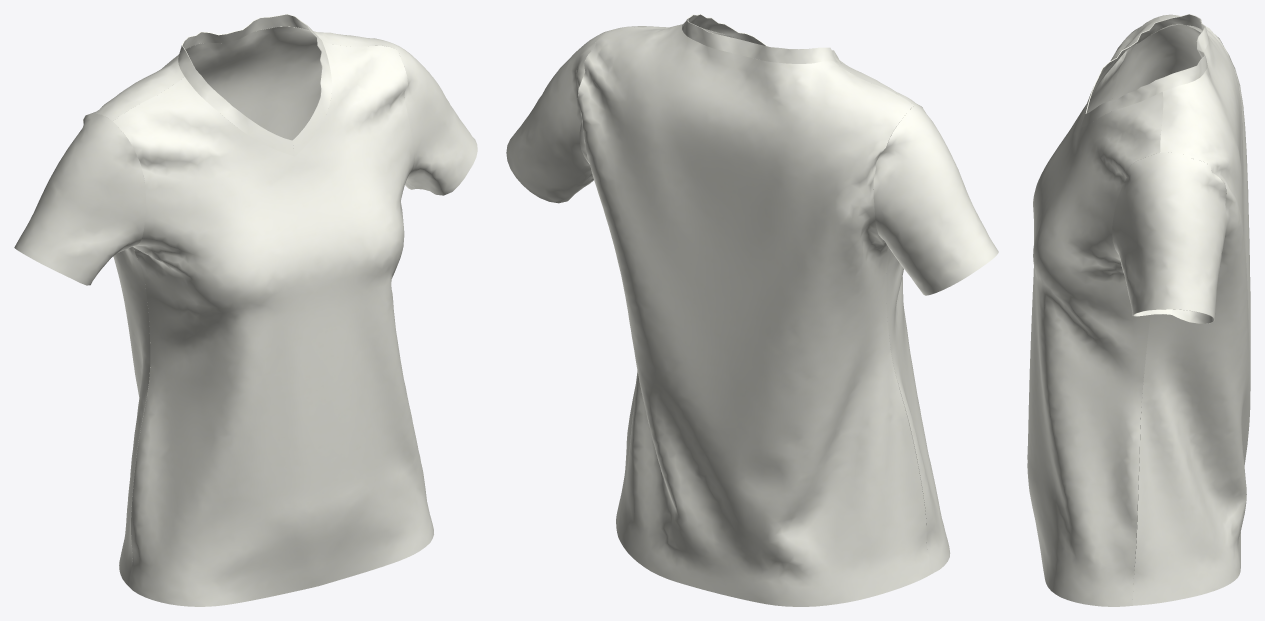
3 renders of one model, left to right at view 1: azimuth 30°, elevation 25°; view 2: azimuth 150°, elevation 25°; view 3: azimuth 270°, elevation 25°, orthographic. The views are drawn at different scales.
Parts seen in each view (by area): view 1: Cloth; view 2: Cloth; view 3: Cloth.
Part boxes in pixels (x1,y1,x2,y2): Cloth: (14, 14, 477, 606); Cloth: (506, 14, 998, 606); Cloth: (1027, 14, 1250, 606).
Bounding box in the file's own units: 0.5554 × 0.5978 × 0.2375.
Materials: 1 (1 with a texture image).
